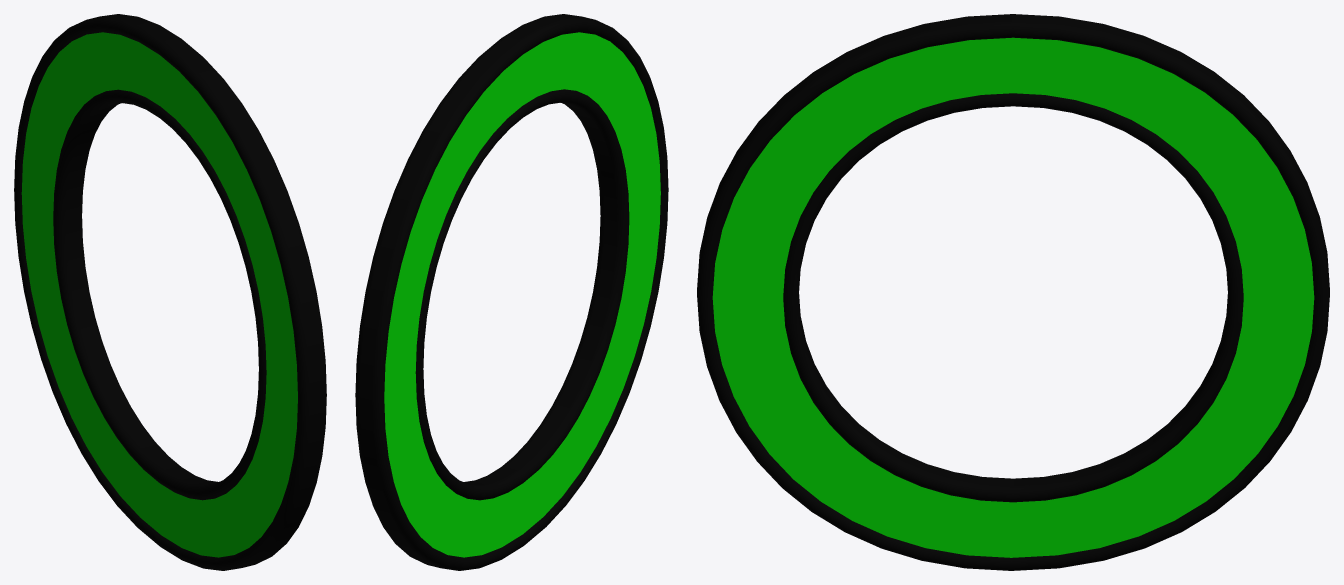
The model's file is oLetter.fbx.
3 renders of one model, left to right at view 1: azimuth 30°, elevation 25°; view 2: azimuth 150°, elevation 25°; view 3: azimuth 270°, elevation 25°, orthographic. The views are drawn at different scales.
Parts seen in each view (by area): view 1: O; view 2: O; view 3: O.
Boxes of the visible parts, x1,y1,x2,y2 form: O: [14, 14, 326, 570]; O: [355, 14, 668, 570]; O: [697, 14, 1329, 570].
Bounding box in the file's own units: 0.08 × 1.44 × 1.51.
